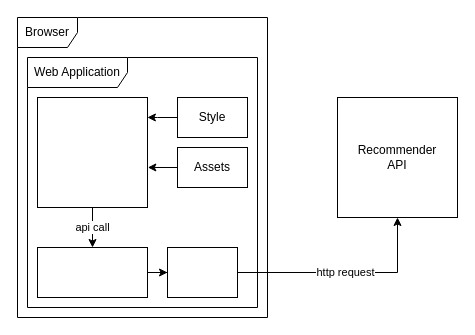
This 475x335 diagram has some shape labels left out. Each missing label, with the centre of its shape:
"Axios" belongs at point (202, 272).
"Service" belongs at point (92, 272).
"Vue" belongs at point (92, 152).
